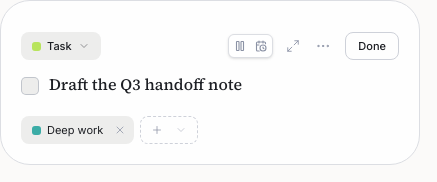
every membership comes back off, from the pill or the picker › takes a routine off from the × on its pill, and keeps the chip to re-pick
The image size is (437, 182).
Click the button with test id "item-dialog-routine-chip-clear" at [122, 130], box [110,116,134,144]
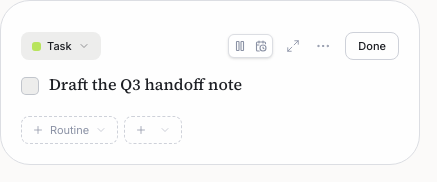
Expected: the button with test id "item-dialog-routine-chip" is shown, [21,116,118,144]
Expected: the button with test id "item-dialog-routine-chip-clear" is gone
